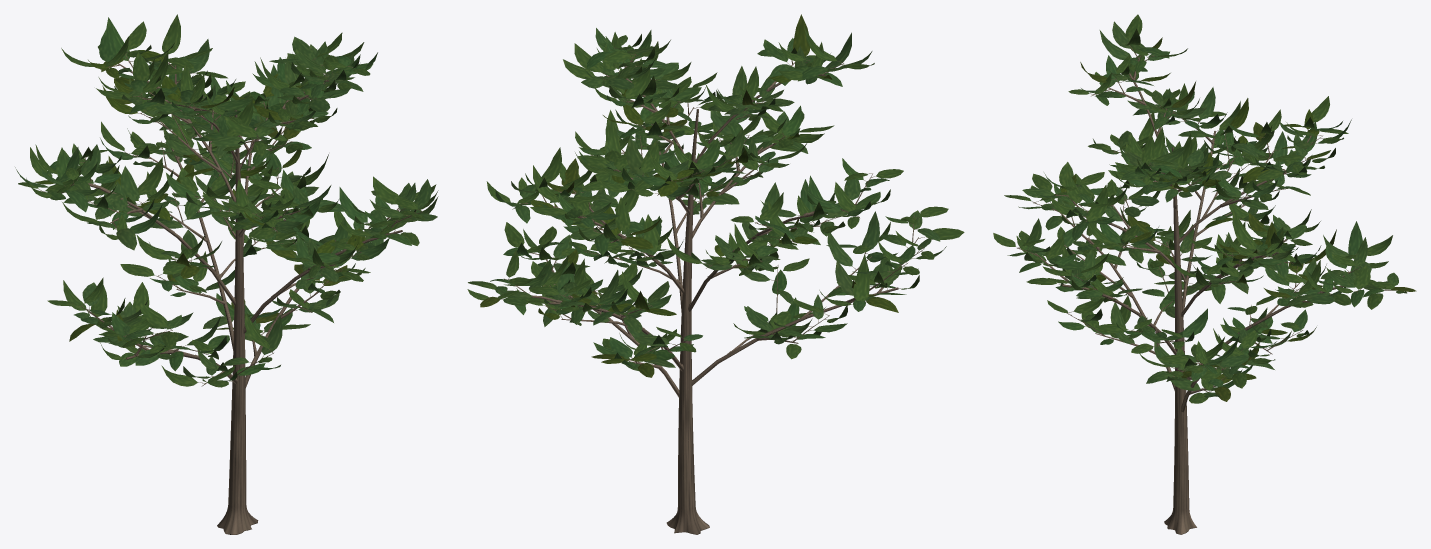
File: tree.glb
3 renders of one model, left to right at view 1: azimuth 30°, elevation 25°; view 2: azimuth 150°, elevation 25°; view 3: azimuth 270°, elevation 25°, orthographic. The views are drawn at different scales.
Parts seen in each view (by area): view 1: Foliage, Bark; view 2: Foliage, Bark; view 3: Foliage, Bark.
Boxes of the visible parts, box(x1,y1,x2,y2) form: Foliage: box(15, 14, 438, 387); Bark: box(39, 51, 422, 534); Foliage: box(467, 14, 964, 377); Bark: box(500, 47, 924, 534); Foliage: box(993, 14, 1416, 403); Bark: box(1017, 42, 1392, 534).
Size of the model in its own units: 1.76 by 2.2 by 1.85.
Materials: 2 (2 with a texture image).
